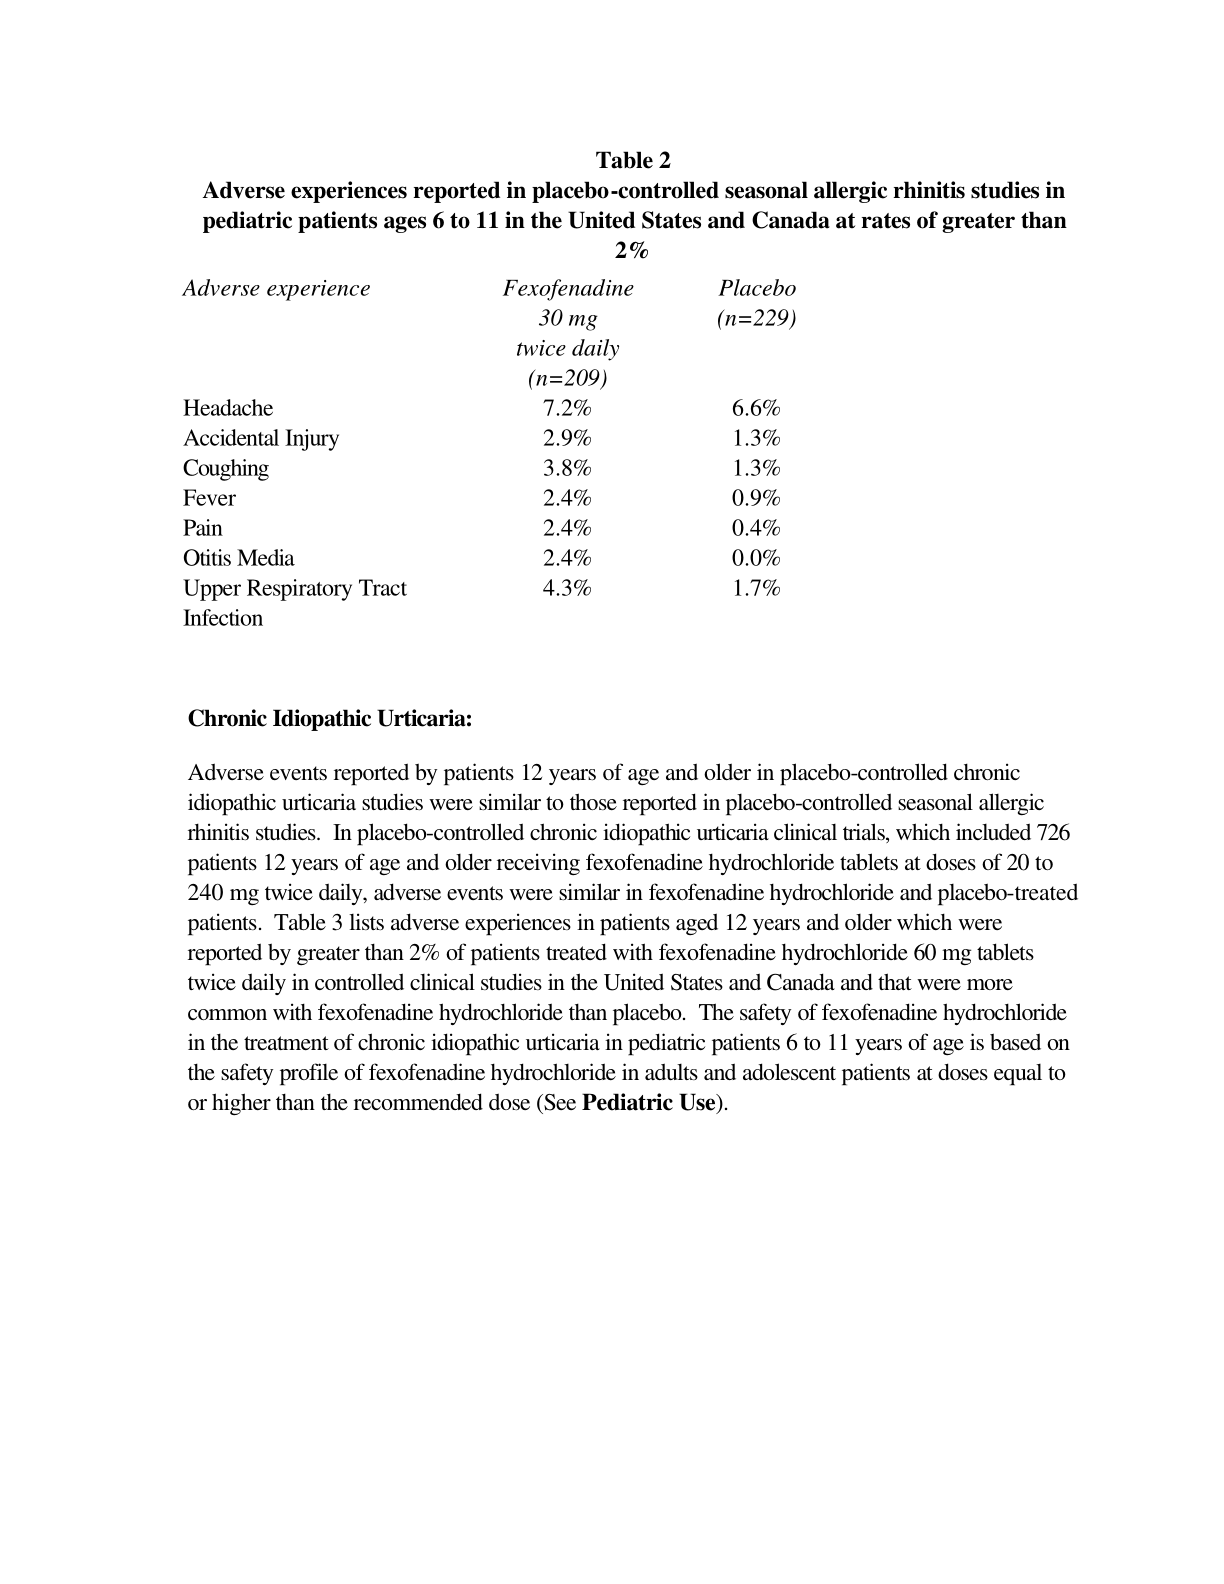nolines: (177, 275, 800, 631)
